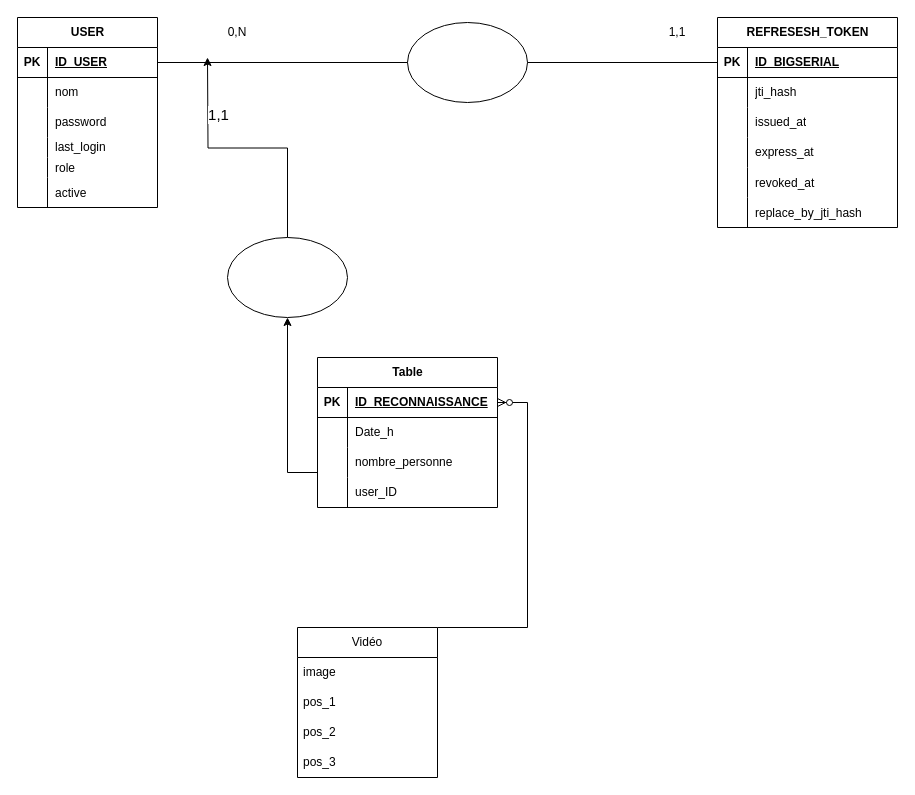
This 915x795 diagram has some shape labels left out. The shapes that lost their labels are listed below. From the top down, each one's centre as x and y in pixels, then its label:
At (467,62): "possede".
At (287,277): "reconnaissance".
